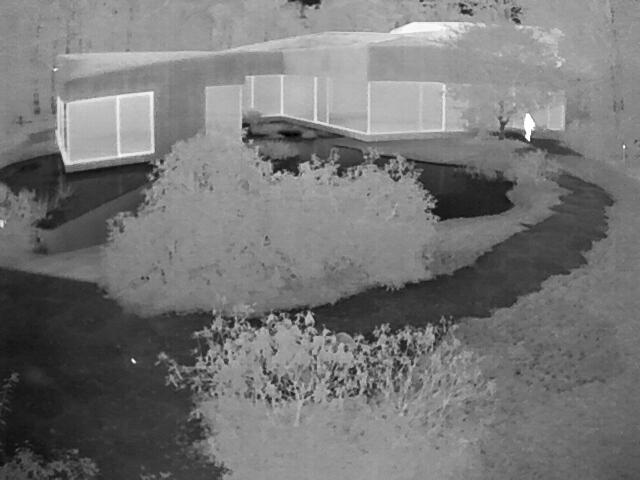person: (520, 112, 536, 142)
